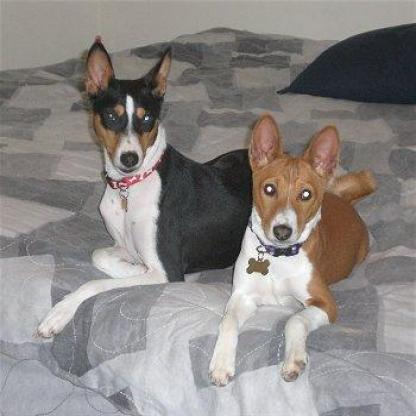basenji: (194, 109, 380, 391)
